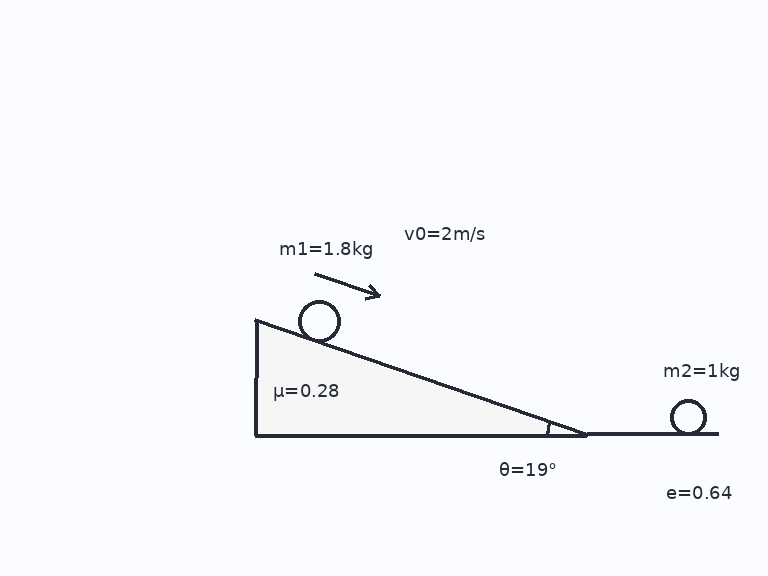ball: (296, 298, 342, 344), (668, 397, 708, 437)
ramp: (253, 319, 589, 437)
